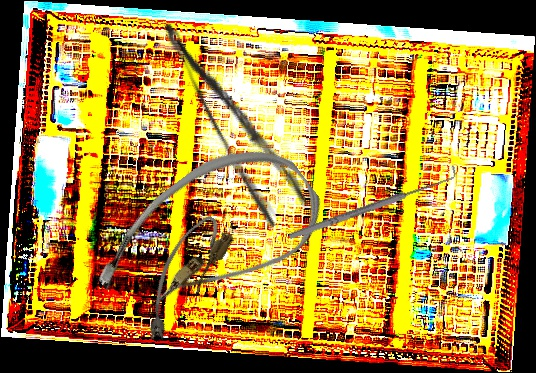Cannula: (80, 119, 337, 357), (126, 208, 239, 349)
Dressing Forceps: (158, 2, 314, 231)
Hook Surgical: (285, 164, 460, 243)
